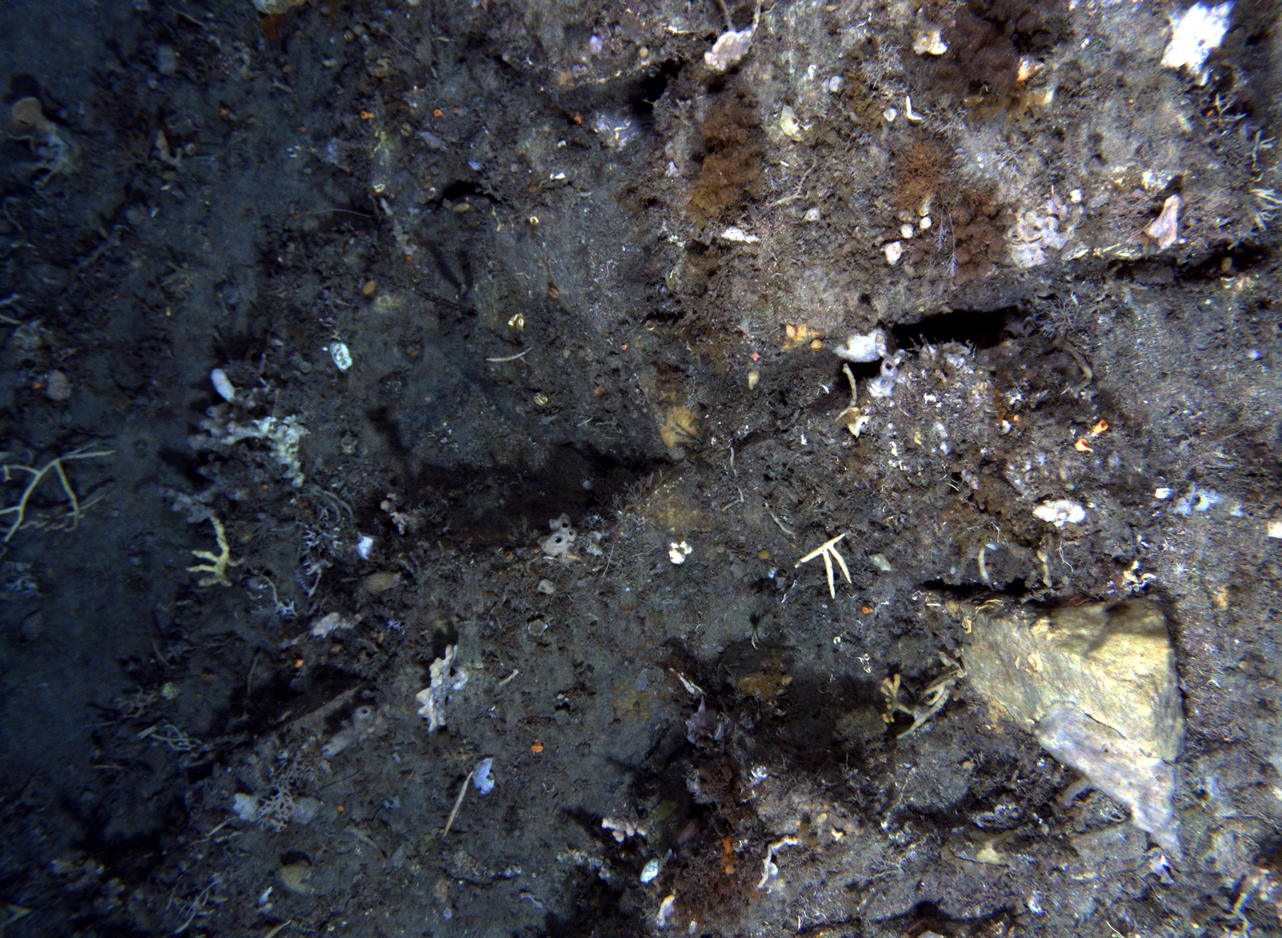Brachionichthyidae: (674, 810, 709, 849)
